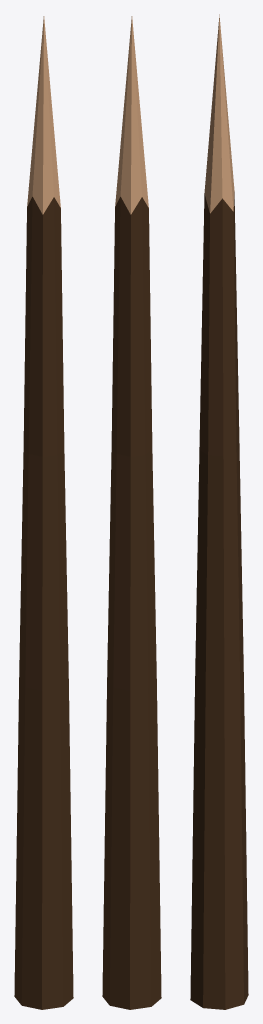
The model's file is stick.fbx.
3 views of the same model, side by side, from view 1: azimuth 30°, elevation 25°; view 2: azimuth 210°, elevation 25°; view 3: azimuth 270°, elevation 25° (orthographic).
Visible parts, largest first — view 1: stick; view 2: stick; view 3: stick.
Boxes of the visible parts, <box> form: stick: <box>14,16,73,1009</box>; stick: <box>102,16,161,1009</box>; stick: <box>190,14,248,1009</box>.
Bounding box in the file's own units: 43.5 × 813 × 43.5.
